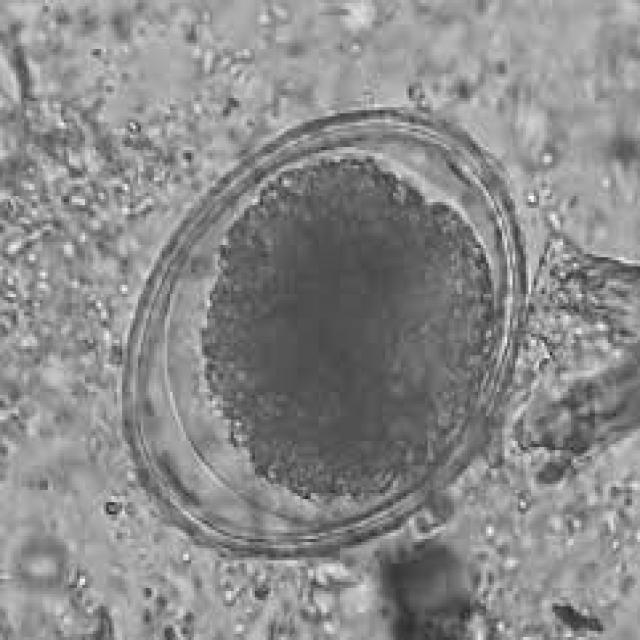Ancylostoma Spp: (108, 89, 532, 566)
